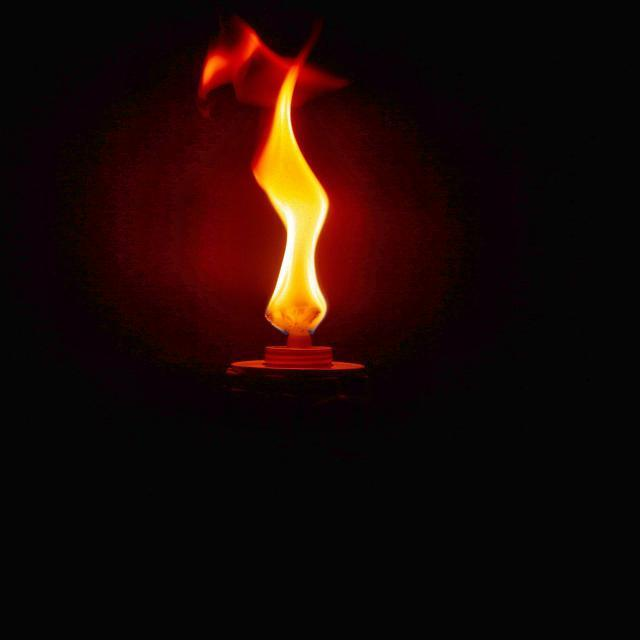Fire: (254, 91, 339, 336)
